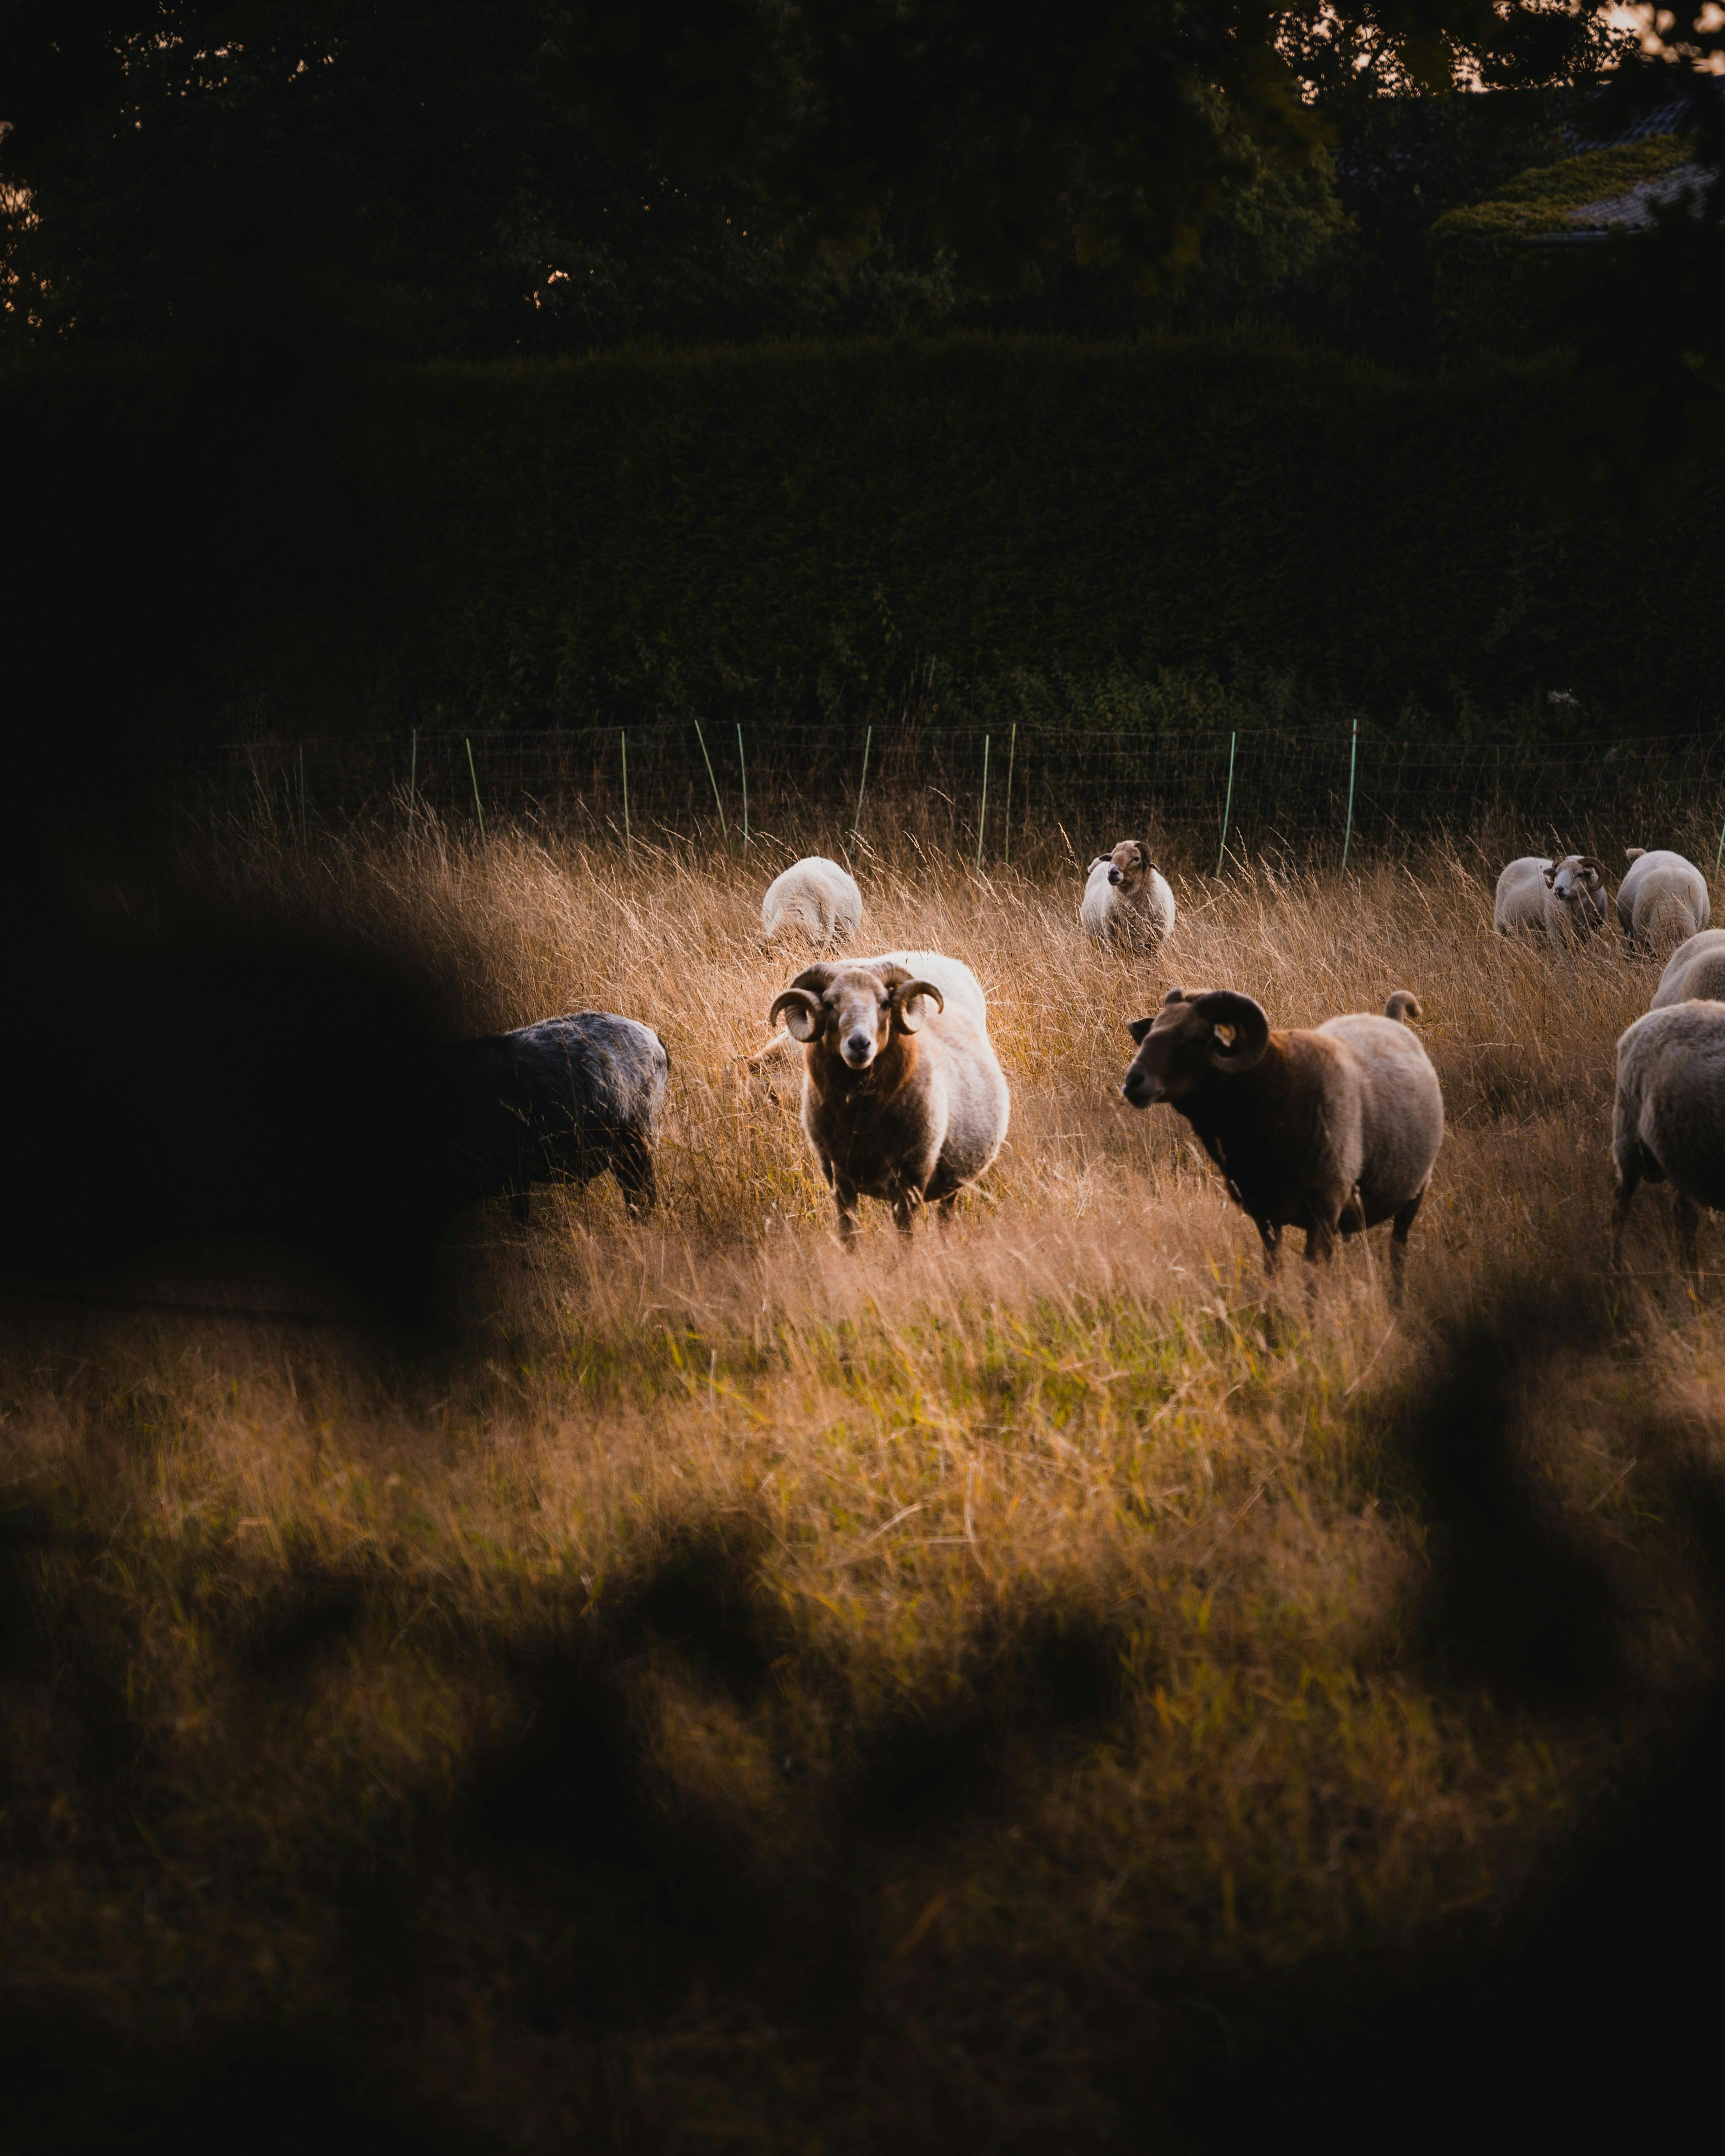sheep: (1119, 987, 1443, 1301), (766, 961, 1016, 1260), (481, 1012, 672, 1228), (1609, 1003, 1725, 1306), (1491, 848, 1611, 961), (1077, 838, 1178, 963), (1612, 843, 1711, 968), (757, 855, 868, 957), (1648, 928, 1725, 1016)
